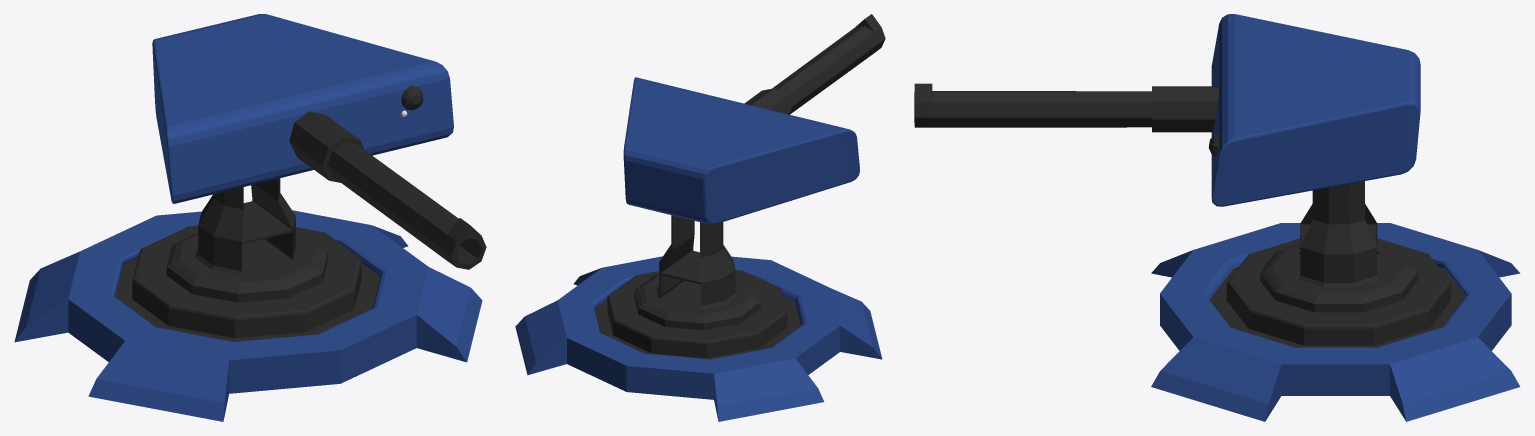
Rendered from singleTurretFinalUpgrade.fbx.
3 views of the same model, side by side, from view 1: azimuth 30°, elevation 25°; view 2: azimuth 150°, elevation 25°; view 3: azimuth 270°, elevation 25° (orthographic). The views are drawn at different scales.
Parts seen in each view (by area): view 1: FinalUpgradeTurret; view 2: FinalUpgradeTurret; view 3: FinalUpgradeTurret.
Boxes of the visible parts, left/top/right/bottom form: FinalUpgradeTurret: left=14, top=14, right=486, bottom=421; FinalUpgradeTurret: left=515, top=14, right=885, bottom=421; FinalUpgradeTurret: left=914, top=14, right=1520, bottom=421.
Bounding box in the file's own units: 61.77 × 39.88 × 86.17.
